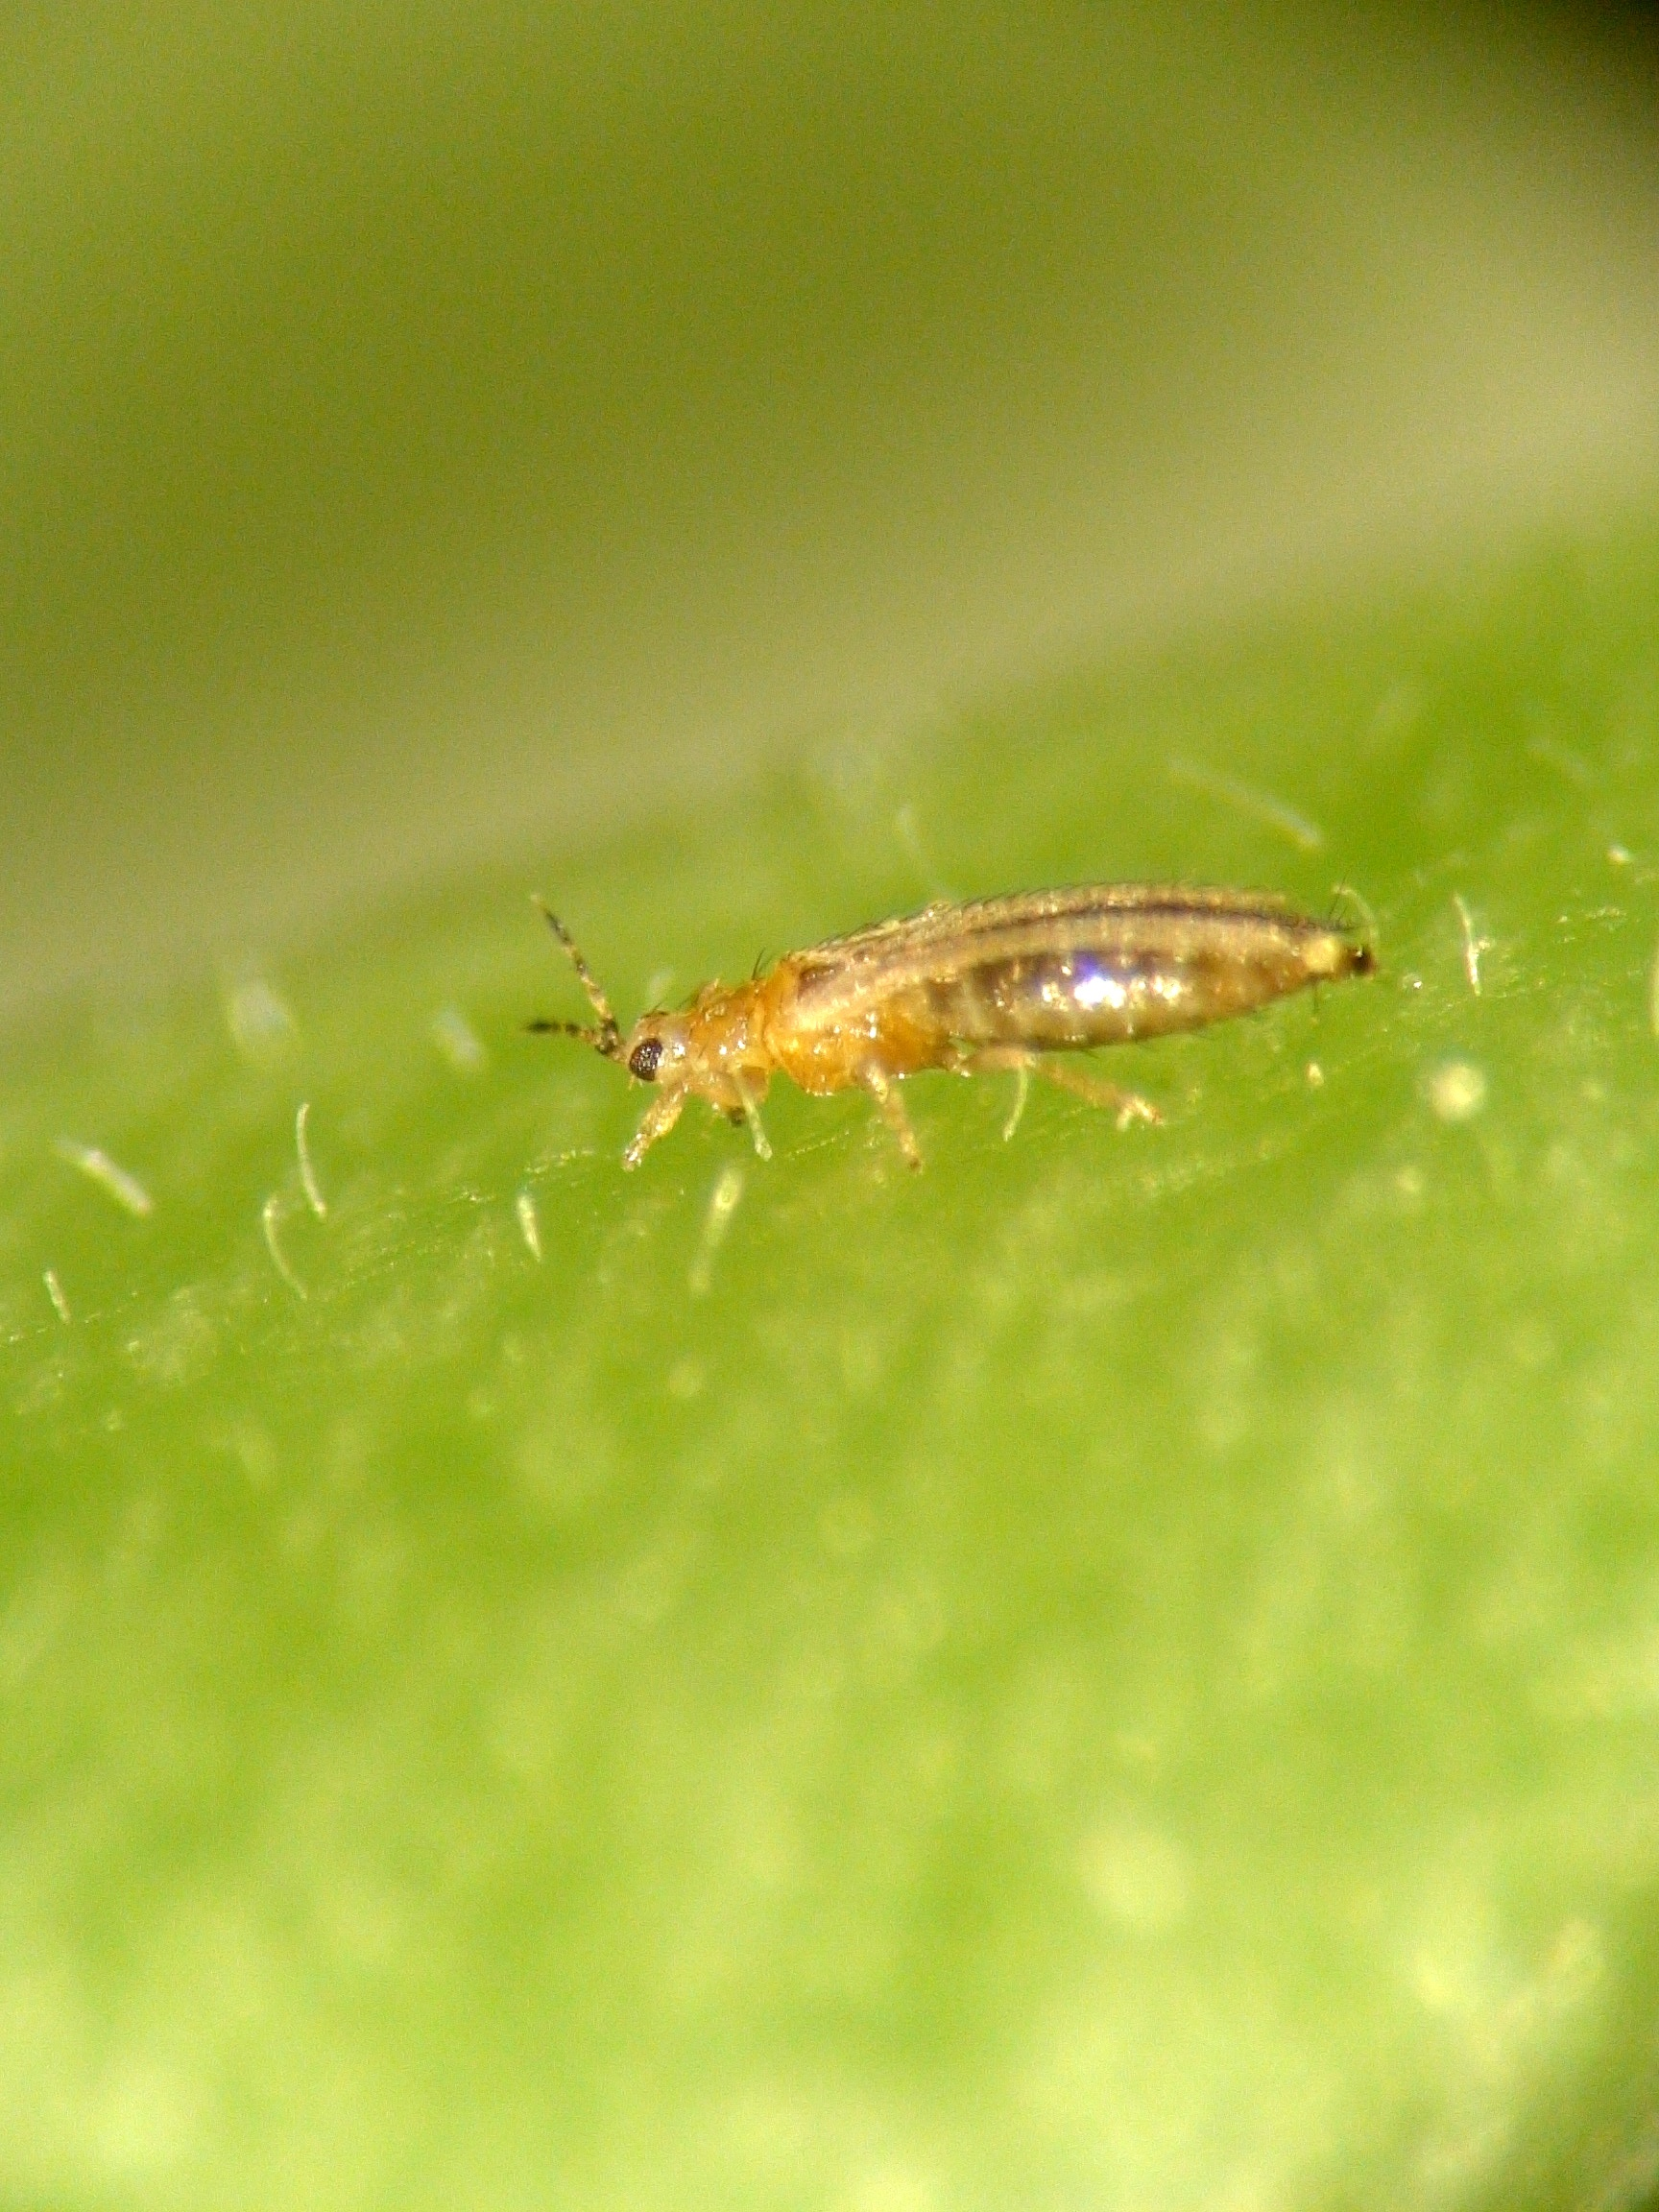Thrips: (527, 848, 1384, 1225)
